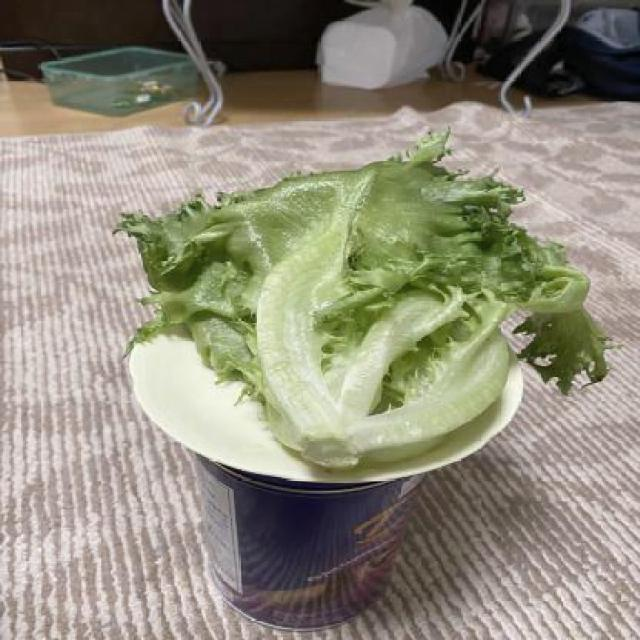Lettuce: (112, 130, 614, 473)
